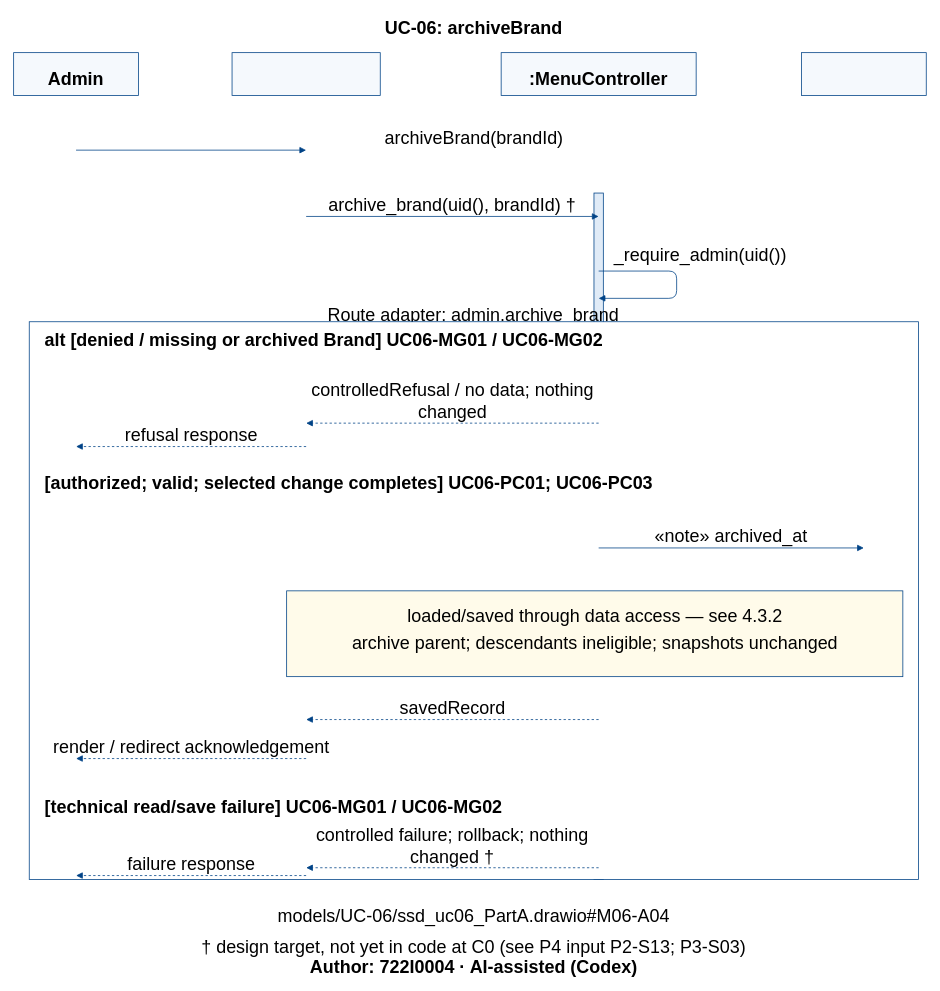
Image size: 940x991. Some labels were removed from this diagram. The shapes that lost their labels are listed below. From the top down, each one's centre as x and y in pixels, then its label:
At pixel 305 74: "«view» admin".
At pixel 863 74: ":Brand".
